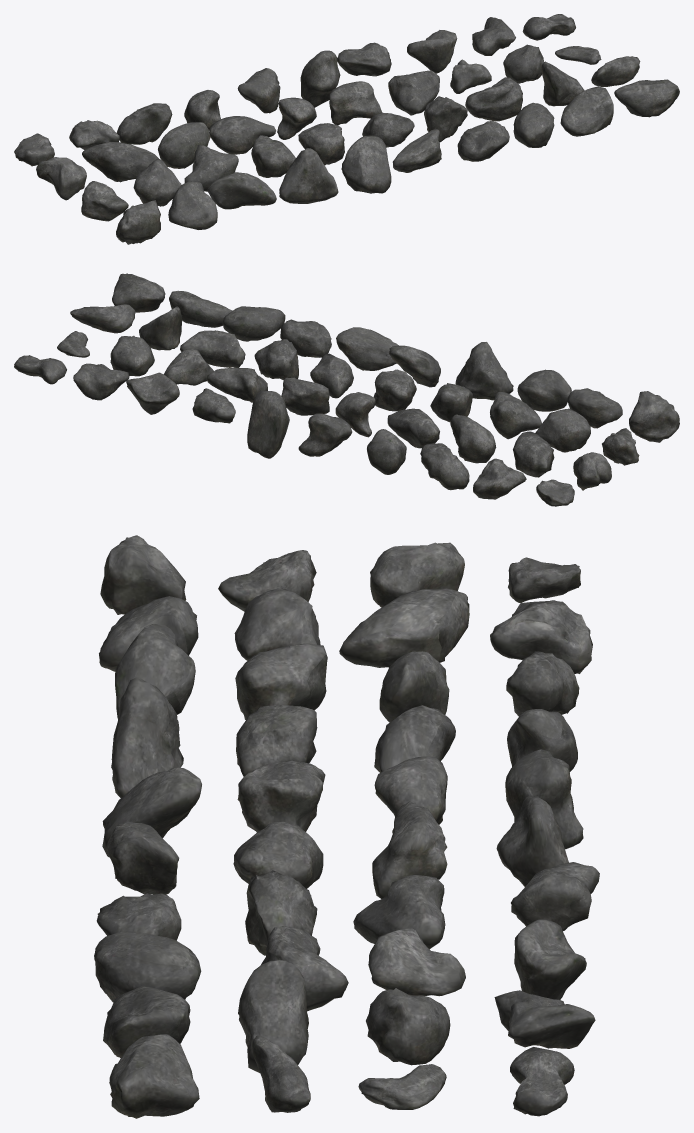
File: 40_rocks.glb
3 views of the same model, one above another, from view 1: azimuth 30°, elevation 25°; view 2: azimuth 150°, elevation 25°; view 3: azimuth 270°, elevation 25° (orthographic). The views are drawn at different scales.
Parts seen in each view (by area): view 1: Object_6, Object_5, Object_3, Object_4, Object_7, Object_2, Object_8; view 2: Object_6, Object_4, Object_7, Object_5, Object_2, Object_3, Object_8; view 3: Object_6, Object_3, Object_2, Object_5, Object_7, Object_4, Object_8.
Boxes of the visible parts, left/top/right/bottom form: Object_6: left=341, top=79, right=679, bottom=193; Object_5: left=14, top=120, right=338, bottom=229; Object_3: left=36, top=17, right=601, bottom=200; Object_4: left=116, top=30, right=457, bottom=144; Object_7: left=116, top=56, right=640, bottom=244; Object_2: left=277, top=14, right=575, bottom=139; Object_8: left=133, top=123, right=344, bottom=206; Object_6: left=112, top=273, right=440, bottom=387; Object_4: left=126, top=372, right=469, bottom=490; Object_7: left=70, top=304, right=679, bottom=442; Object_5: left=455, top=342, right=639, bottom=506; Object_2: left=14, top=335, right=375, bottom=437; Object_3: left=57, top=331, right=611, bottom=490; Object_8: left=373, top=369, right=590, bottom=452; Object_6: left=94, top=767, right=201, bottom=1118; Object_3: left=339, top=542, right=595, bottom=1109; Object_2: left=353, top=756, right=574, bottom=1116; Object_5: left=99, top=550, right=592, bottom=797; Object_7: left=100, top=535, right=348, bottom=1112; Object_4: left=496, top=651, right=599, bottom=999; Object_8: left=234, top=588, right=327, bottom=832.
Size of the model in its own units: 9.85 by 1.07 by 3.82.
1 material, 1 textured.
